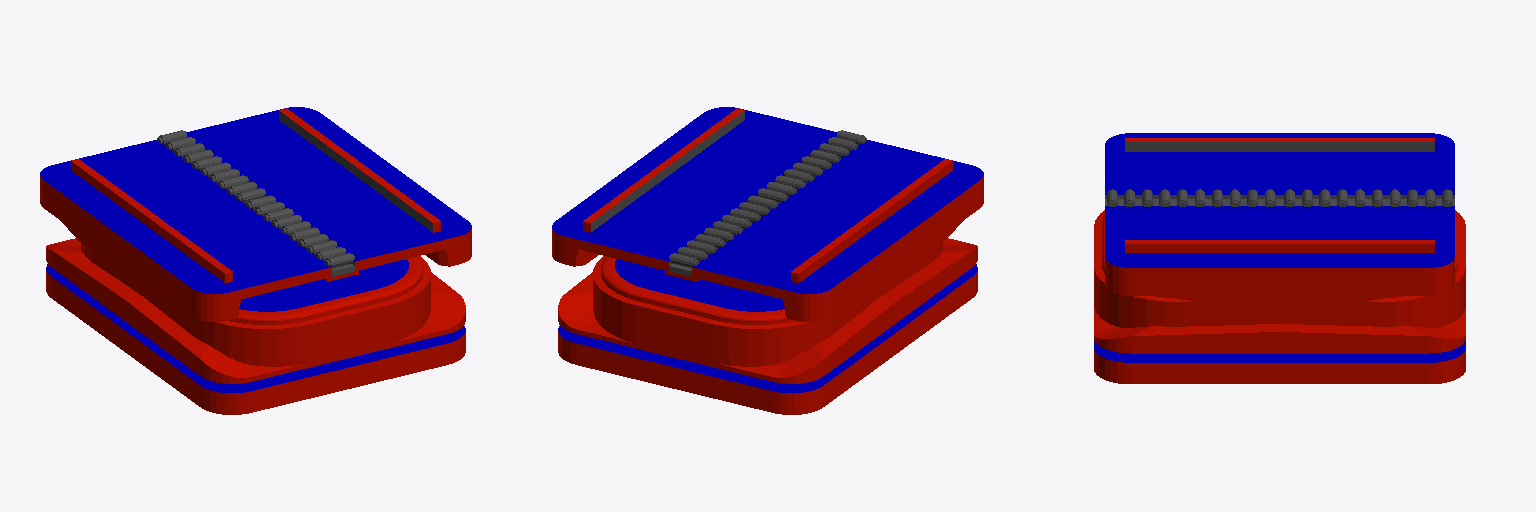
File: Robot.obj
The picture shows the model from 3 angles: view 1: azimuth 30°, elevation 25°; view 2: azimuth 150°, elevation 25°; view 3: azimuth 270°, elevation 25°; orthographic projection.
Visible parts, largest first — view 1: Cube.001; view 2: Cube.001; view 3: Cube.001.
Boxes of the visible parts, x1=… form: Cube.001: x1=40, y1=107, x2=471, y2=414; Cube.001: x1=552, y1=107, x2=983, y2=414; Cube.001: x1=1094, y1=133, x2=1465, y2=383.
Bounding box in the file's own units: 1.29 × 0.5769 × 1.5.